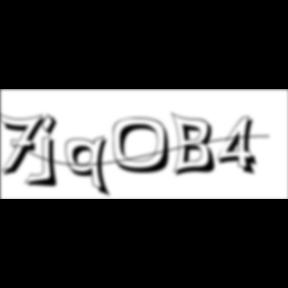4: (216, 115, 264, 179)
7: (0, 111, 52, 179)
B: (172, 111, 222, 179)
O: (112, 117, 178, 176)
j: (38, 113, 64, 191)
q: (66, 135, 114, 200)
